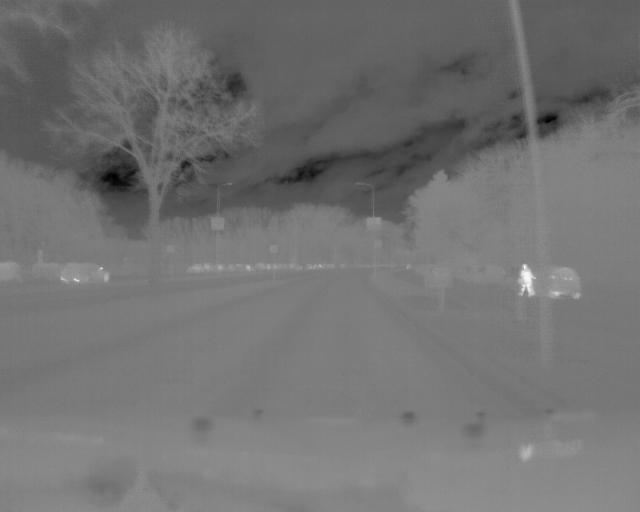car: (61, 261, 113, 287)
person: (518, 262, 536, 301)
